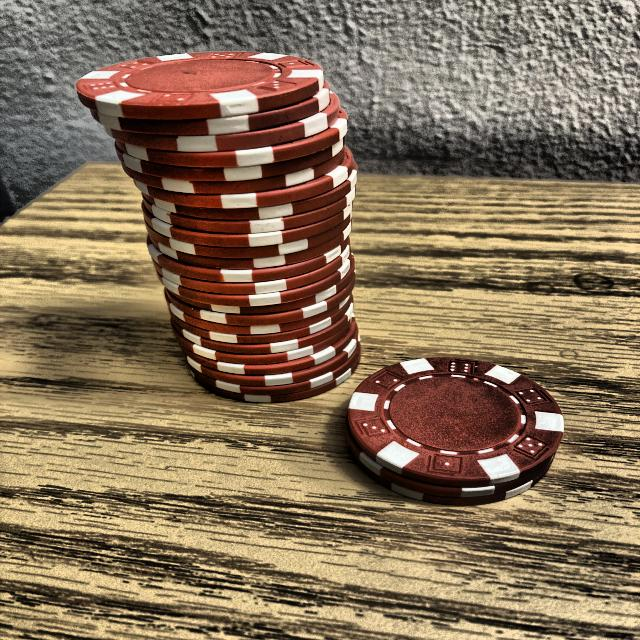Chip: (75, 46, 365, 404), (336, 350, 568, 508)
